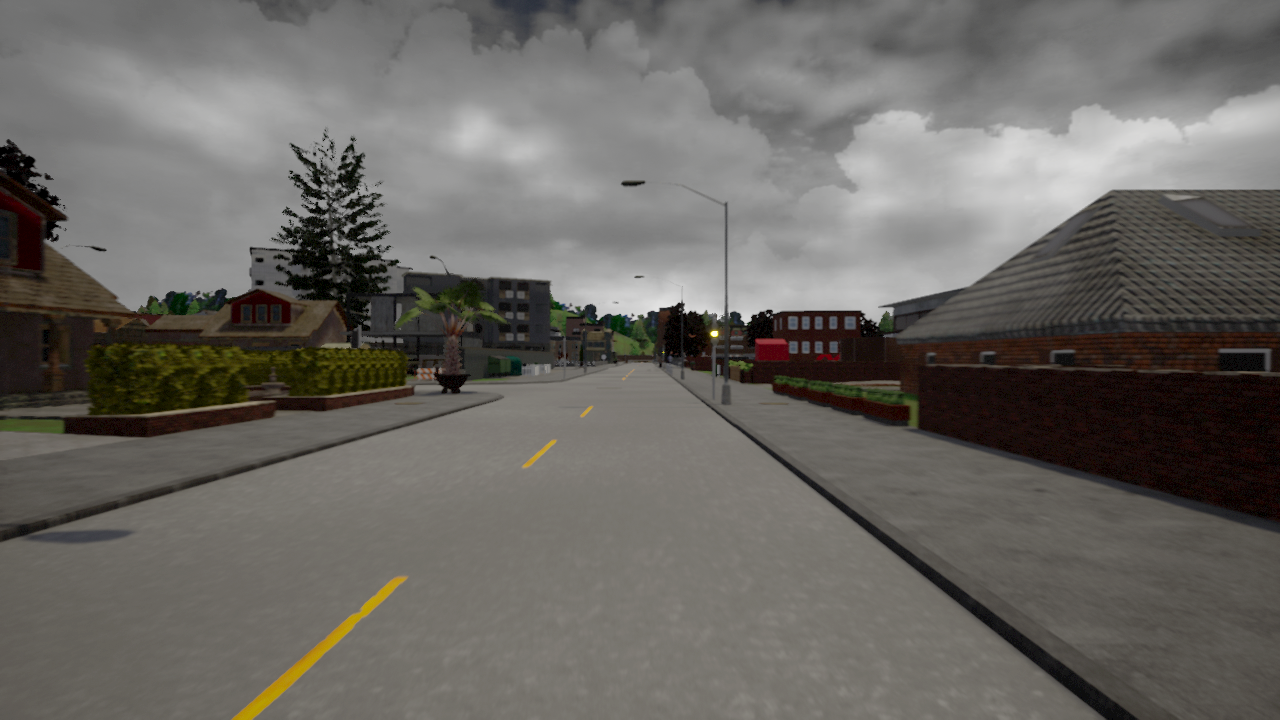yellow: (709, 321, 720, 347)
